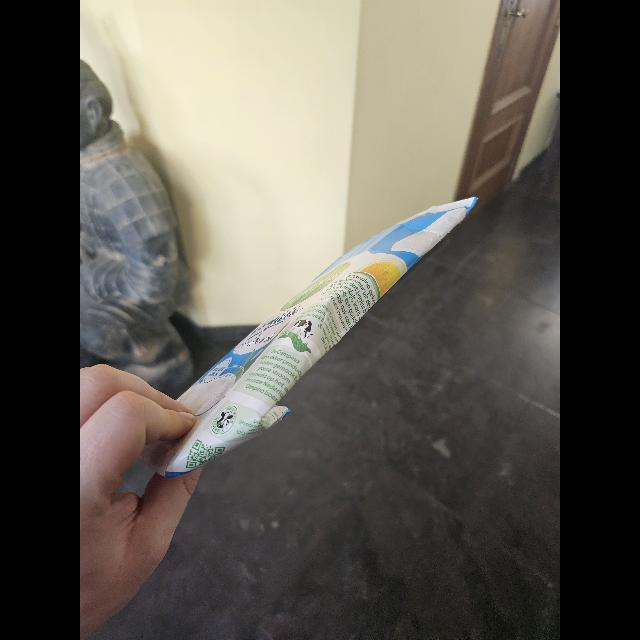Cardboard: (144, 197, 482, 479)
